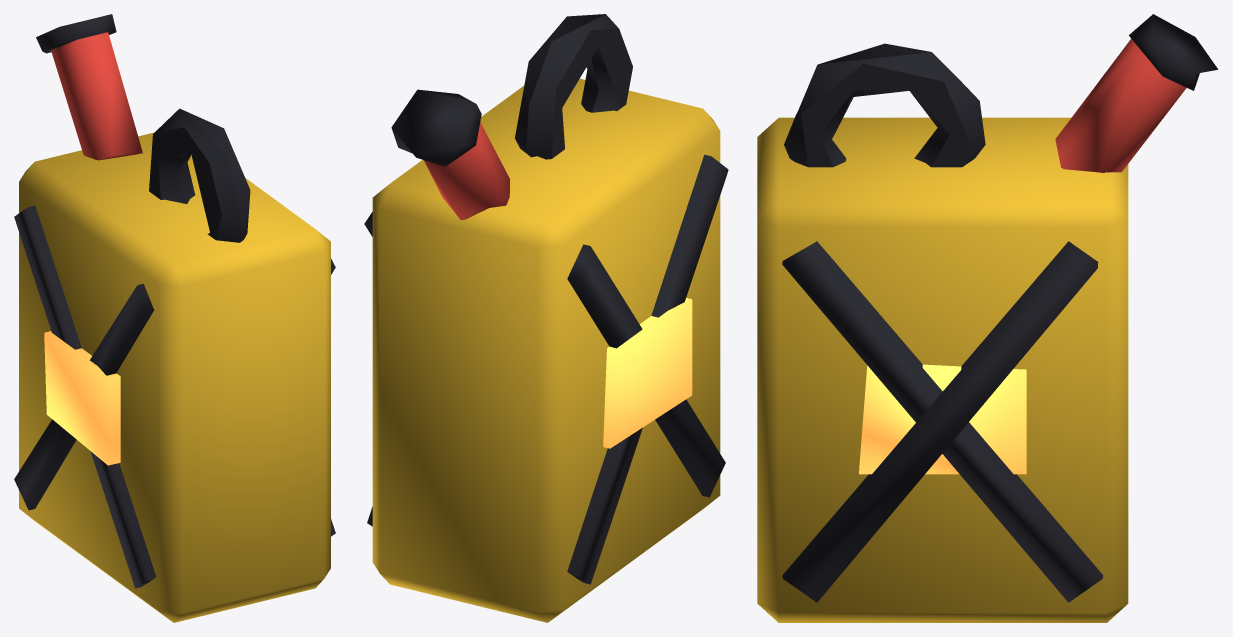
The model's file is gas_can.glb.
3 renders of one model, left to right at view 1: azimuth 30°, elevation 25°; view 2: azimuth 150°, elevation 25°; view 3: azimuth 270°, elevation 25°, orthographic. The views are drawn at different scales.
Visible parts, largest first — view 1: gas_can; view 2: gas_can; view 3: gas_can.
Boxes of the visible parts, bbox=[...] form: gas_can: bbox=[14, 14, 335, 622]; gas_can: bbox=[364, 14, 728, 622]; gas_can: bbox=[757, 14, 1217, 622].
Bounding box in the file's own units: 0.2766 × 0.6305 × 0.4765.
1 material, 1 textured.
